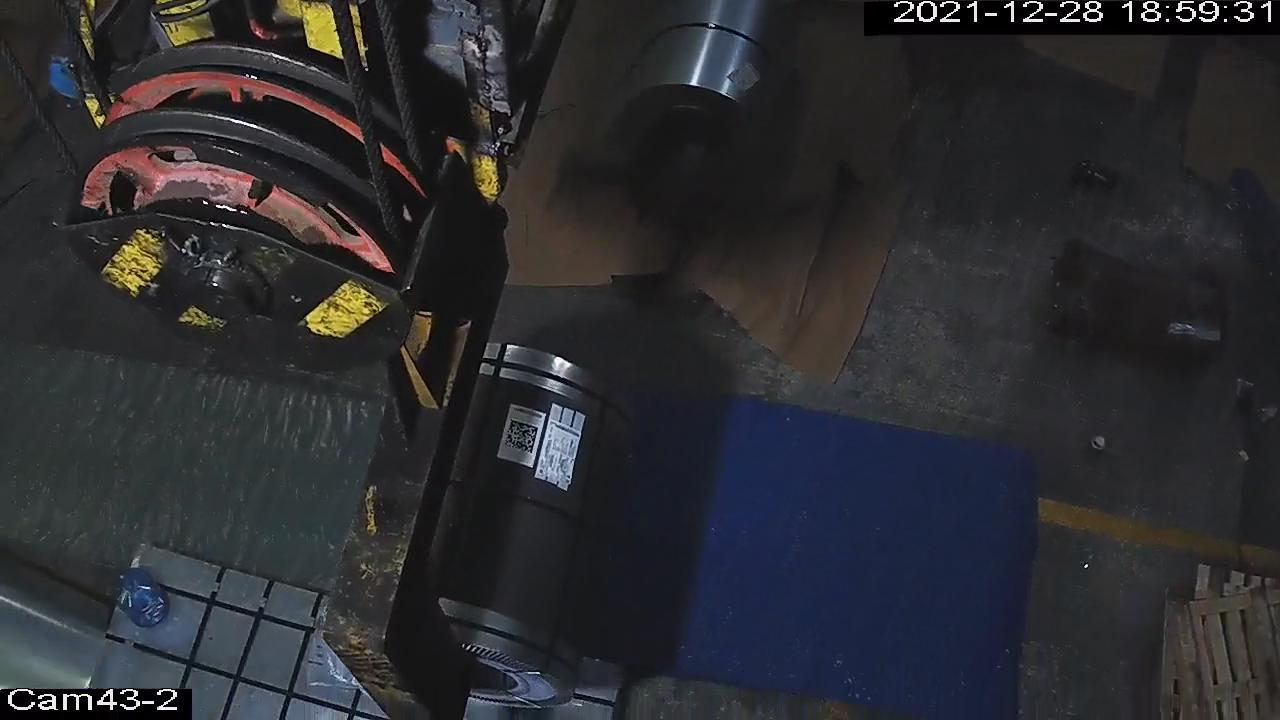data matrix: (500, 417, 542, 458)
